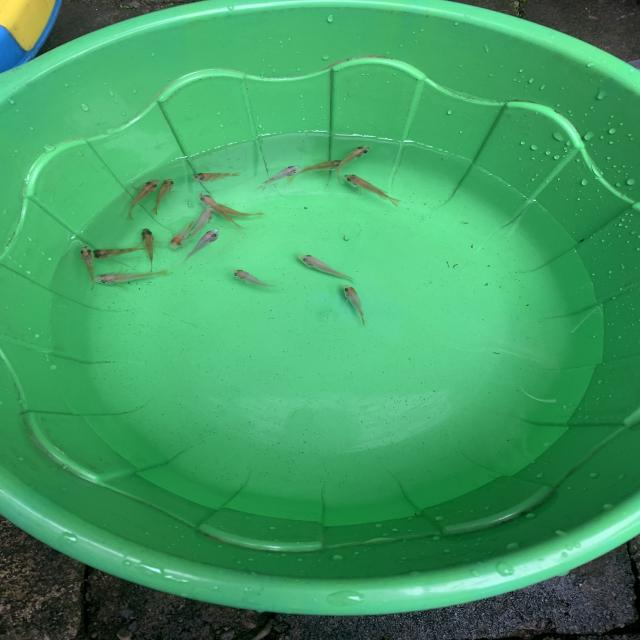nila: (295, 250, 357, 283), (342, 174, 404, 207), (90, 265, 168, 289), (180, 224, 224, 266), (198, 192, 246, 230), (332, 144, 376, 184), (250, 163, 304, 193), (286, 157, 346, 184), (226, 265, 286, 291), (339, 281, 372, 328), (126, 176, 158, 224), (86, 244, 160, 264), (149, 174, 177, 218), (206, 200, 271, 218), (185, 205, 217, 241), (168, 217, 198, 254), (80, 244, 100, 294), (191, 168, 246, 185), (138, 226, 157, 271)
